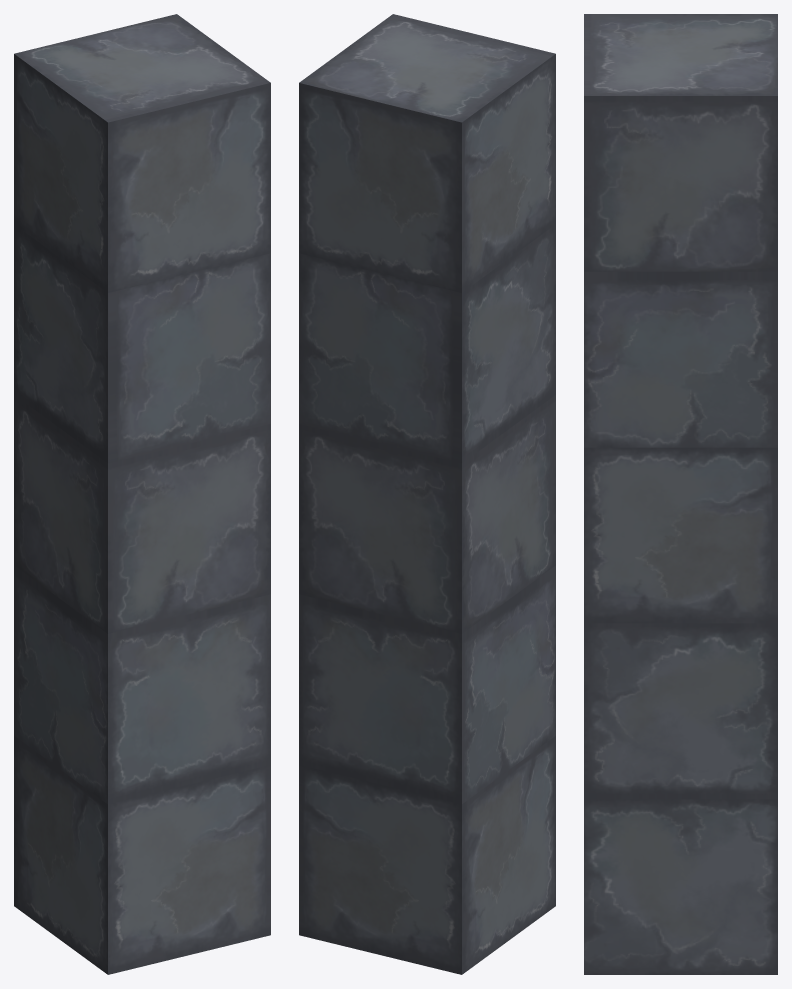
File: Castle Block 1x5.fbx
The picture shows the model from 3 angles, left to right: view 1: azimuth 30°, elevation 25°; view 2: azimuth 150°, elevation 25°; view 3: azimuth 270°, elevation 25°; orthographic projection. The views are drawn at different scales.
Parts seen in each view (by area): view 1: Castle Block 1x5; view 2: Castle Block 1x5; view 3: Castle Block 1x5.
Boxes of the visible parts, x1,y1,x2,y2 form: Castle Block 1x5: (14,14,270,974); Castle Block 1x5: (299,14,555,974); Castle Block 1x5: (584,14,777,974).
Bounding box in the file's own units: 0.75 × 3.75 × 0.75.
